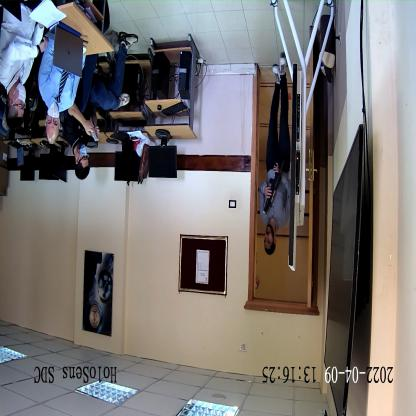handgun: (263, 155, 286, 213)
